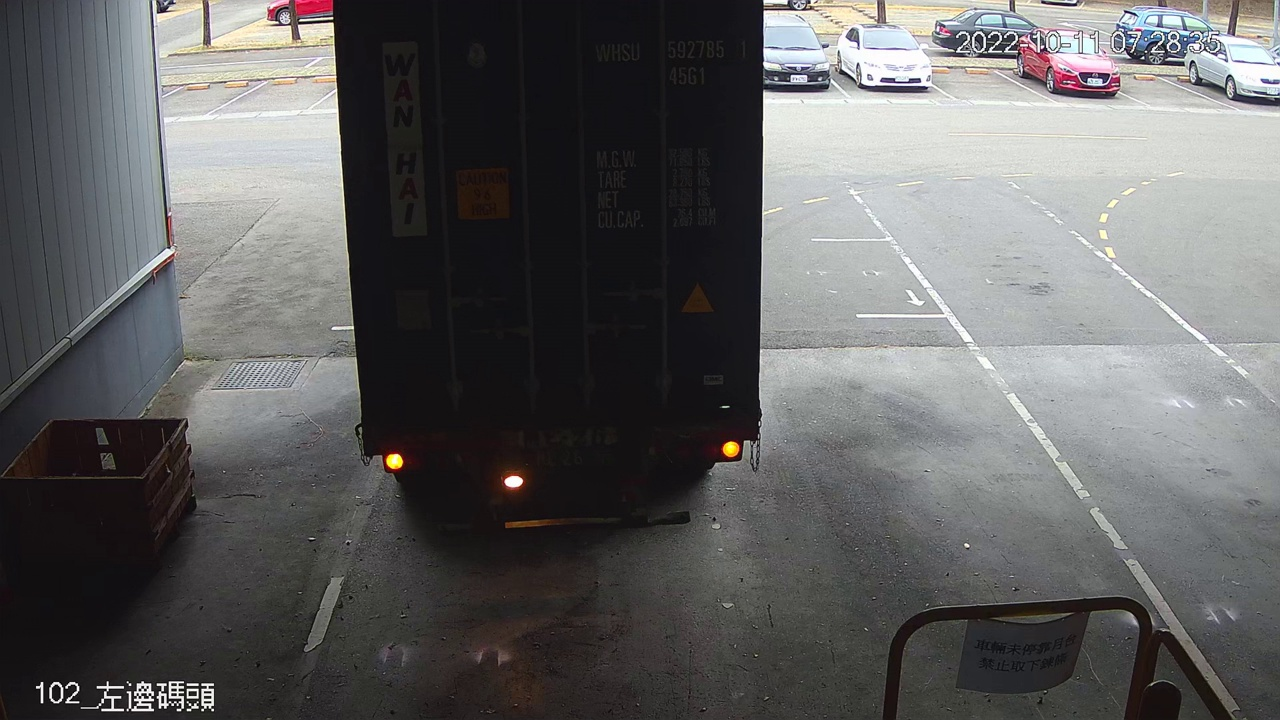container: (585, 32, 754, 92)
